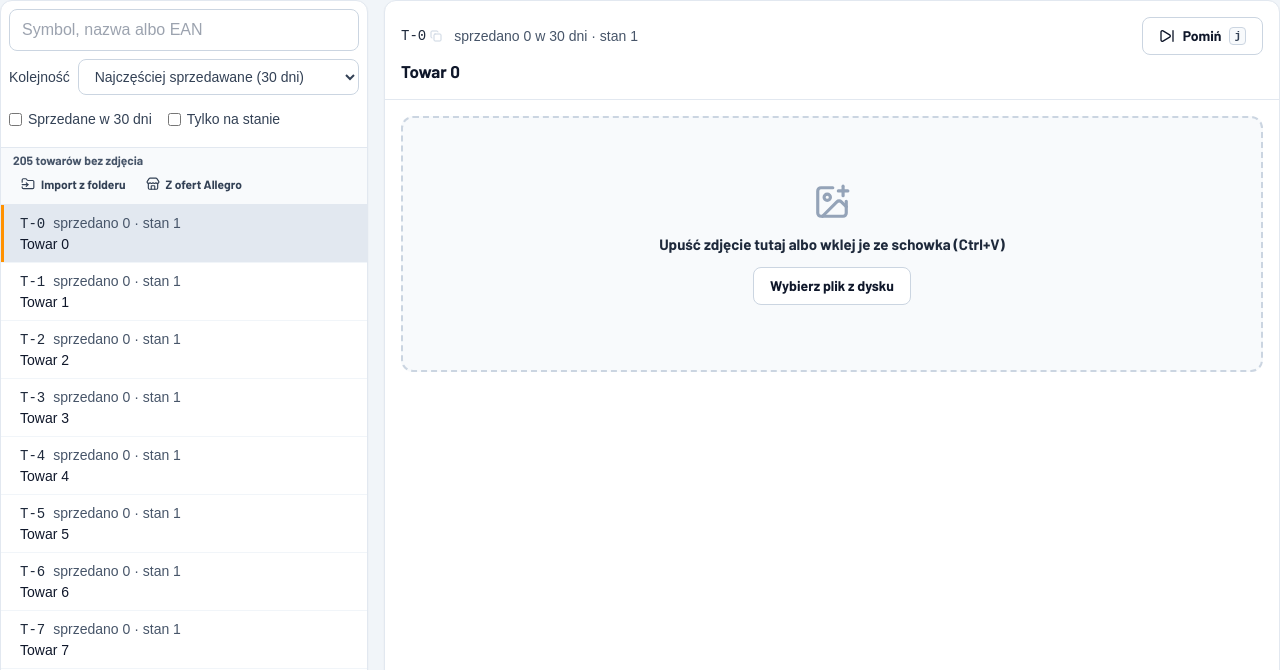
Test: Zdjęcia z ofert Allegro › sprawdzenie zbiera wszystkie strony, pyta paczkami po 100 i liczy cztery klasy
Expected: the heading "Towar 0" is shown, [401,61,460,81]
Click the button "Z ofert Allegro".
click(194, 184)  # box [138,168,250,200]
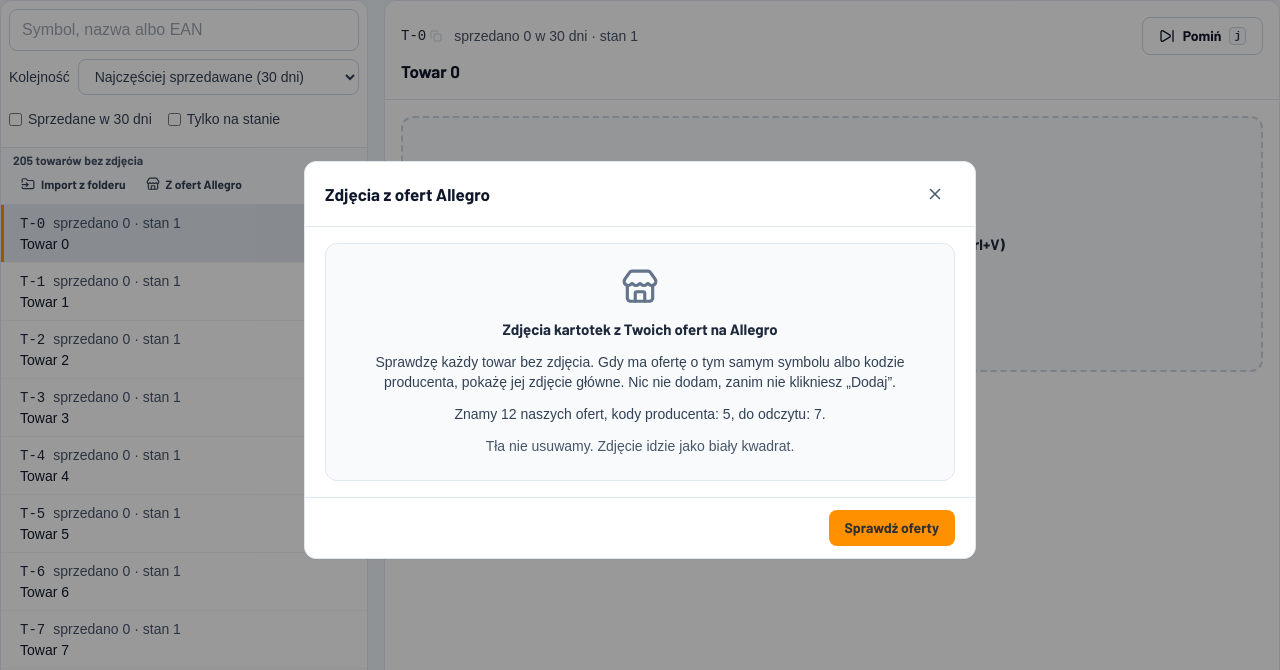
Click the button "Sprawdź oferty".
click(892, 528)  # box [828,510,955,546]
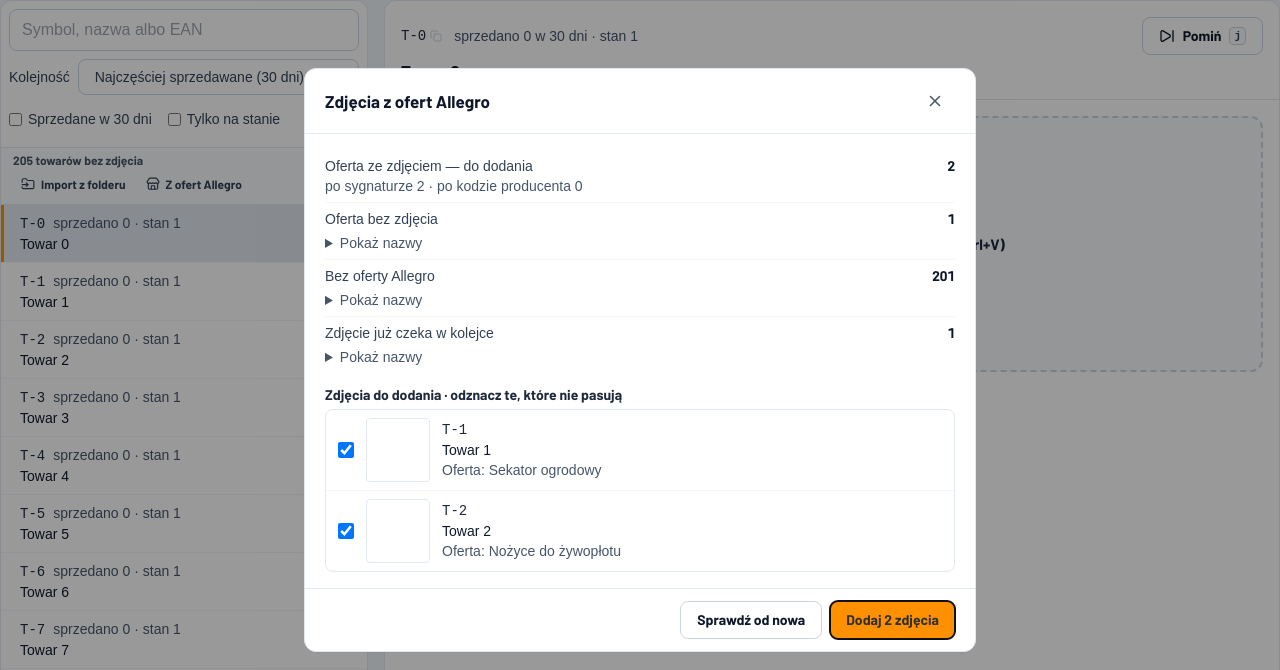
Expected: the button "Dodaj 2 zdjęcia" is shown, [830,601,955,639]
Expected: the checkbox named "Dodaj zdjęcie do T-1" is checked, [338,442,354,458]
Expected: the text "Oferta: Nożyce do żywopłotu" is shown, [442,541,621,561]
